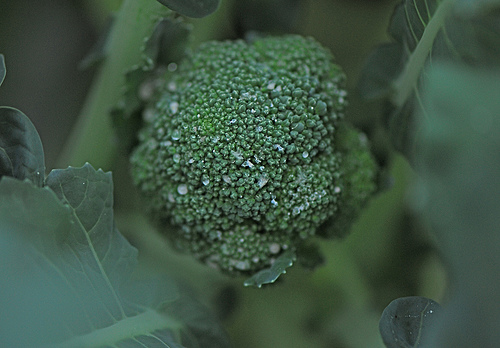broccoli: (124, 31, 381, 284)
